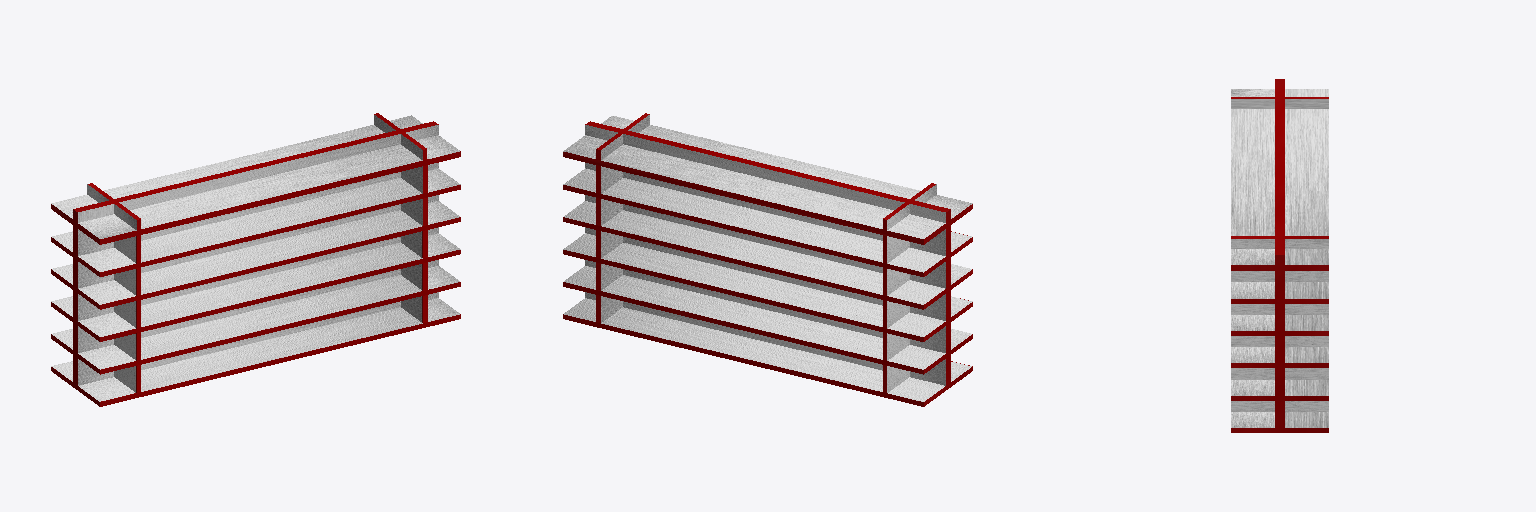
The picture shows the model from 3 angles: view 1: azimuth 30°, elevation 25°; view 2: azimuth 150°, elevation 25°; view 3: azimuth 270°, elevation 25°; orthographic projection.
Visible parts, largest first — view 1: pCube1; view 2: pCube1; view 3: pCube1.
Part boxes in pixels (x1,y1,x2,y2): pCube1: (51,113,460,406); pCube1: (563,113,972,406); pCube1: (1231,79,1328,432).
Size of the model in its own units: 21.21 by 10.01 by 5.01.
Materials: 1 (1 with a texture image).